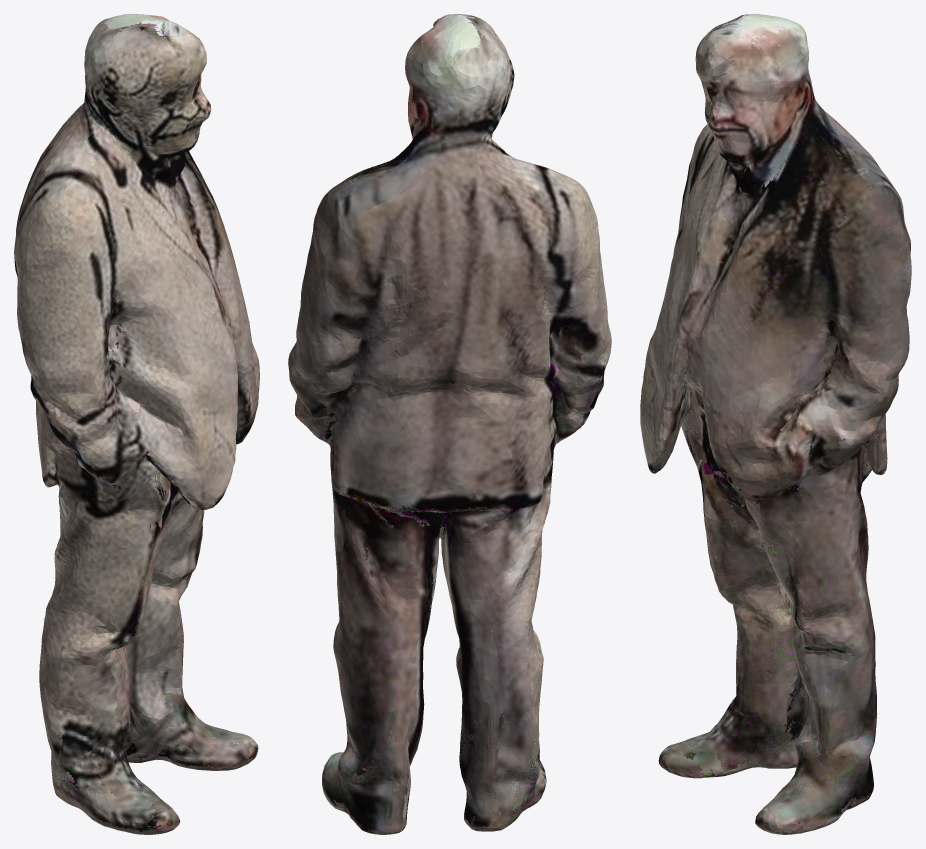
Rendered from old_man_m0.glb.
3 views of the same model, side by side, from view 1: azimuth 30°, elevation 25°; view 2: azimuth 150°, elevation 25°; view 3: azimuth 270°, elevation 25° (orthographic). The views are drawn at different scales.
Parts seen in each view (by area): view 1: mesh; view 2: mesh; view 3: mesh.
Boxes of the visible parts, bbox=[...] form: mesh: bbox=[14, 14, 259, 834]; mesh: bbox=[288, 14, 611, 834]; mesh: bbox=[640, 14, 911, 834].
Bounding box in the file's own units: 0.3973 × 1.16 × 0.374.
Materials: 1 (1 with a texture image).
